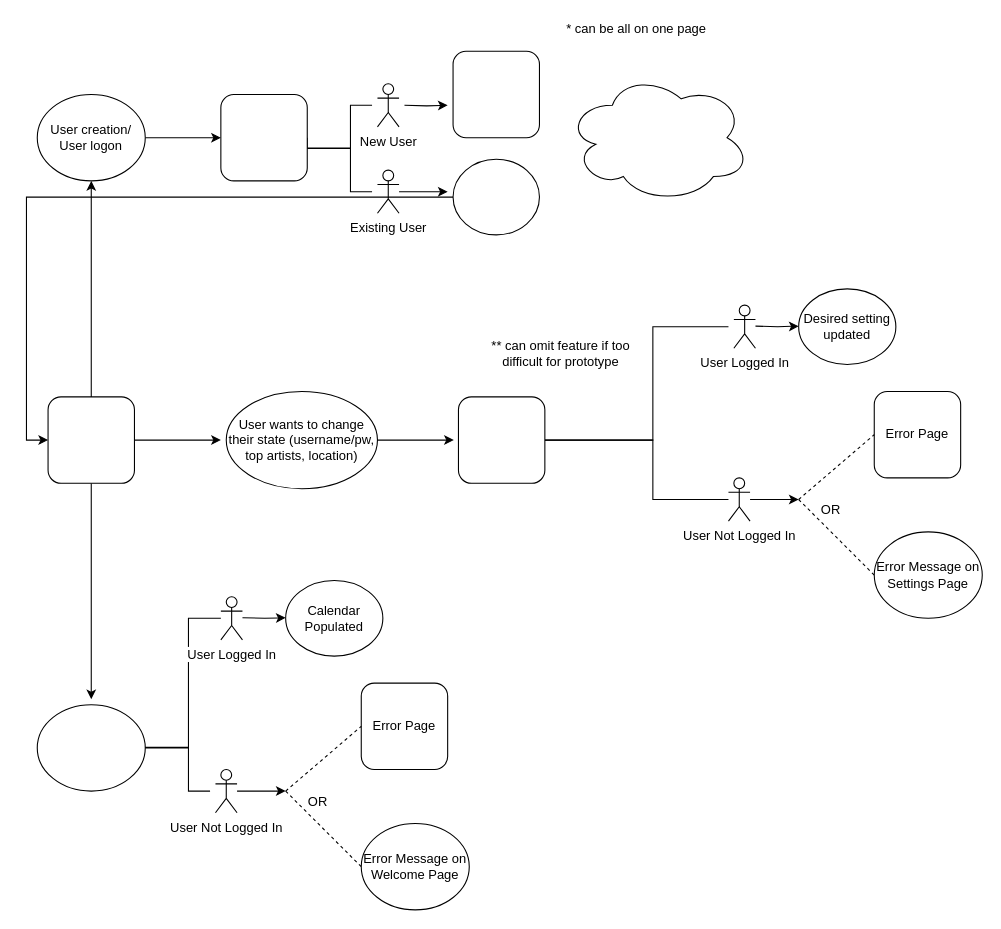
Some shapes in this 1001 by 929 pixel diagram are drawn without their labels. The shapes that lost their labels are listed below. From the top down, each one's centre as x and y in pixels, then its label:
the point at 495,94: Create Account Page*
the point at 263,137: Login Page*
the point at 657,137: Provide errors on page
the point at 495,196: Login w/ local credentials
the point at 90,439: Welcome & Calendar Page
the point at 501,439: Settings Page**
the point at 90,747: User Adds Calendar
